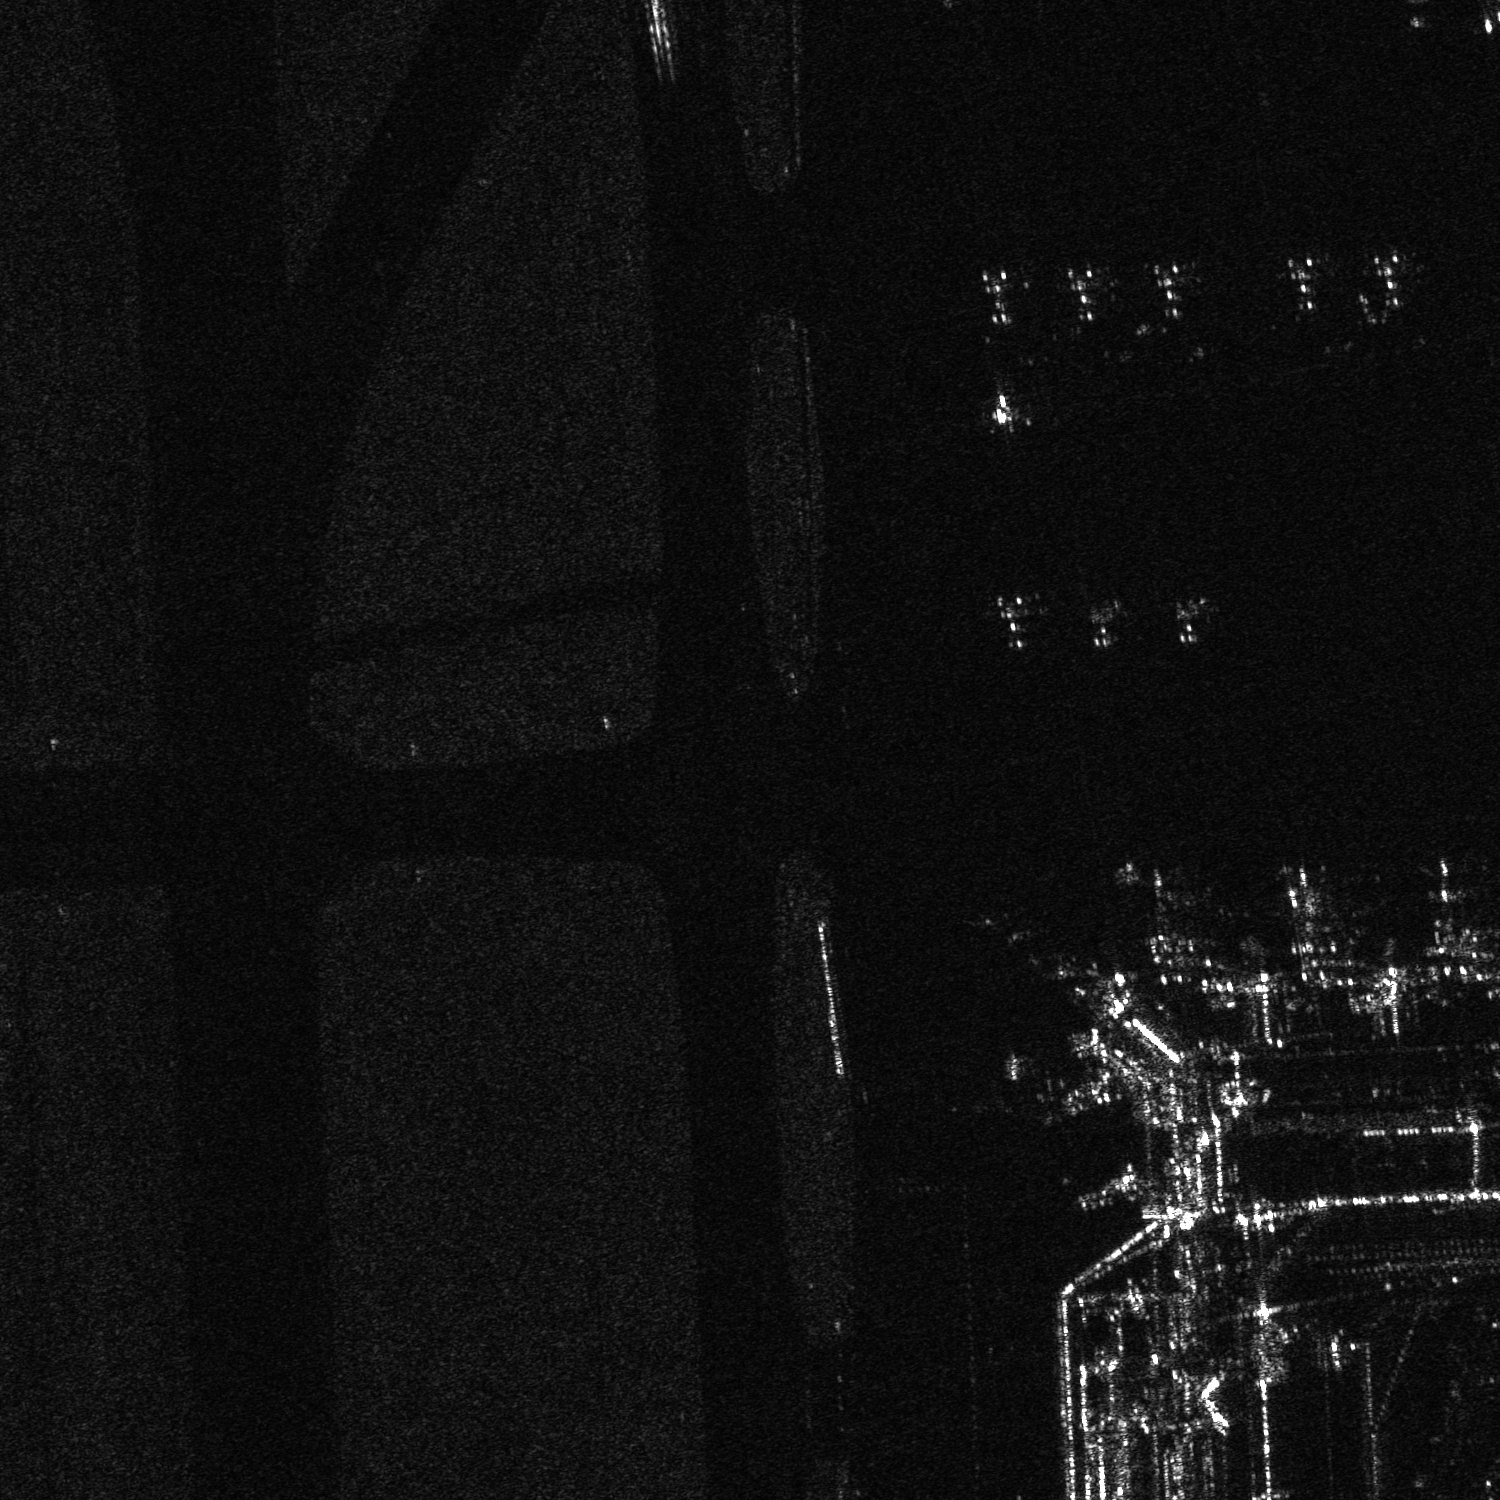A220: (1084, 598, 1135, 651)
A320/321: (1169, 593, 1216, 648)
ARJ21: (979, 592, 1049, 651), (971, 391, 1037, 434)
Boeing787: (1408, 853, 1488, 966)
other: (1268, 863, 1348, 988), (1118, 861, 1199, 962), (1047, 255, 1129, 332), (1352, 245, 1431, 319), (1137, 255, 1216, 330), (962, 258, 1036, 330), (1273, 246, 1335, 319)
